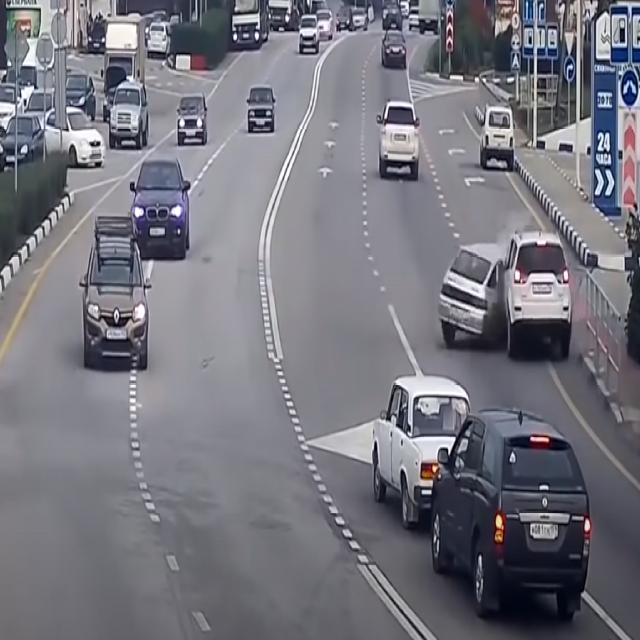accident: (426, 198, 584, 377)
